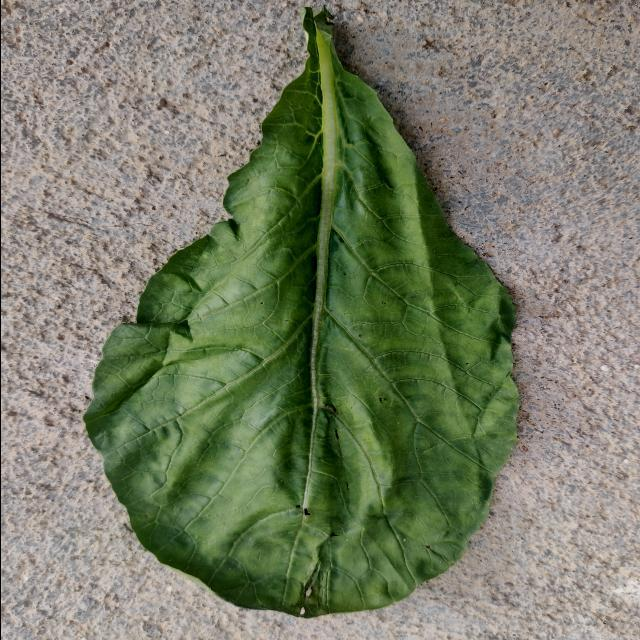leaf: (82, 5, 521, 618)
